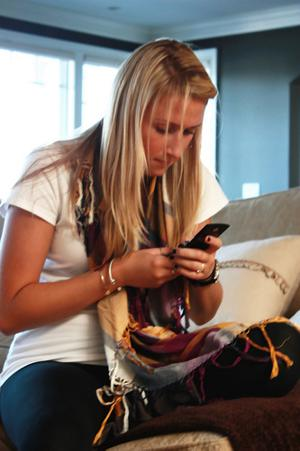person: (2, 41, 279, 443)
